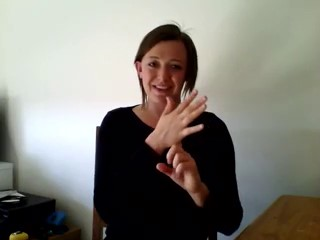L: (154, 88, 213, 196)
